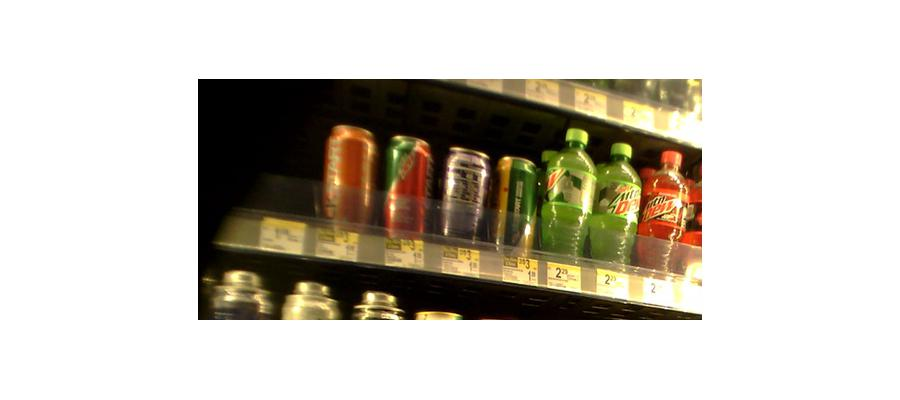bottle: (540, 130, 595, 261), (321, 120, 379, 230), (640, 144, 688, 275), (593, 138, 636, 269), (381, 134, 431, 243), (438, 143, 490, 246), (492, 155, 537, 258)
